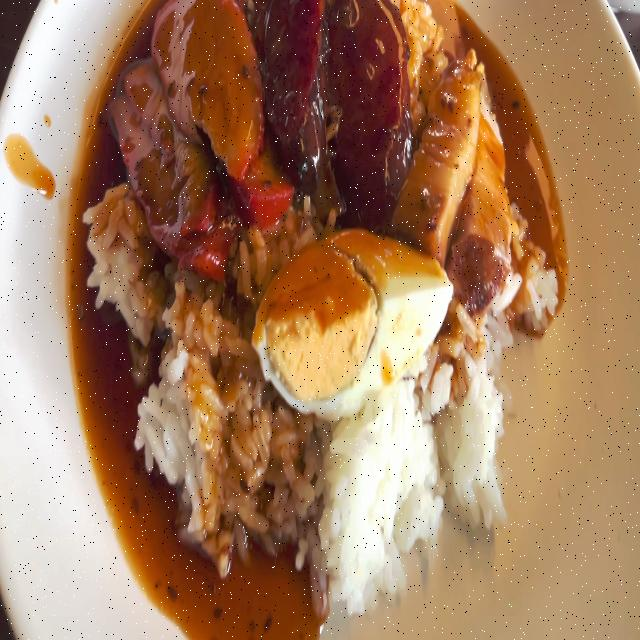boiled_egg: (252, 238, 451, 410)
chainese_sausage: (268, 0, 418, 221), (332, 0, 408, 206), (274, 0, 328, 188)
crispy_pork: (408, 53, 514, 297), (402, 56, 479, 250), (455, 72, 512, 297)
red_pork: (118, 0, 283, 273), (116, 51, 239, 274), (161, 6, 281, 220)
red_pork_and_crispy_pork: (79, 0, 551, 618)
rice: (139, 303, 271, 542), (311, 412, 451, 607), (80, 188, 168, 359), (447, 346, 516, 538), (512, 238, 572, 340)
